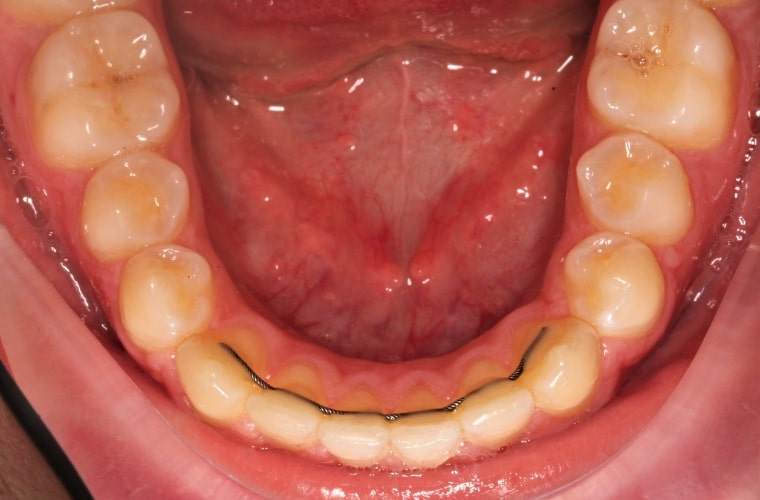LL1BC_healthy: (565, 235, 665, 338)
LL1M_decay: (580, 1, 730, 148)
LL2BC_healthy: (579, 136, 694, 243)
LLCI_decay: (390, 387, 465, 470)
LLC_decay: (520, 320, 600, 417)
LLLI_decay: (459, 355, 532, 448)
LR1BC_healthy: (120, 242, 215, 352)
LR1M_decay: (32, 9, 182, 170)
LR2BC_healthy: (82, 150, 190, 262)
LRCI_decay: (322, 381, 389, 468)
LRC_decay: (176, 327, 269, 423)
LRLI_decay: (248, 367, 327, 442)
